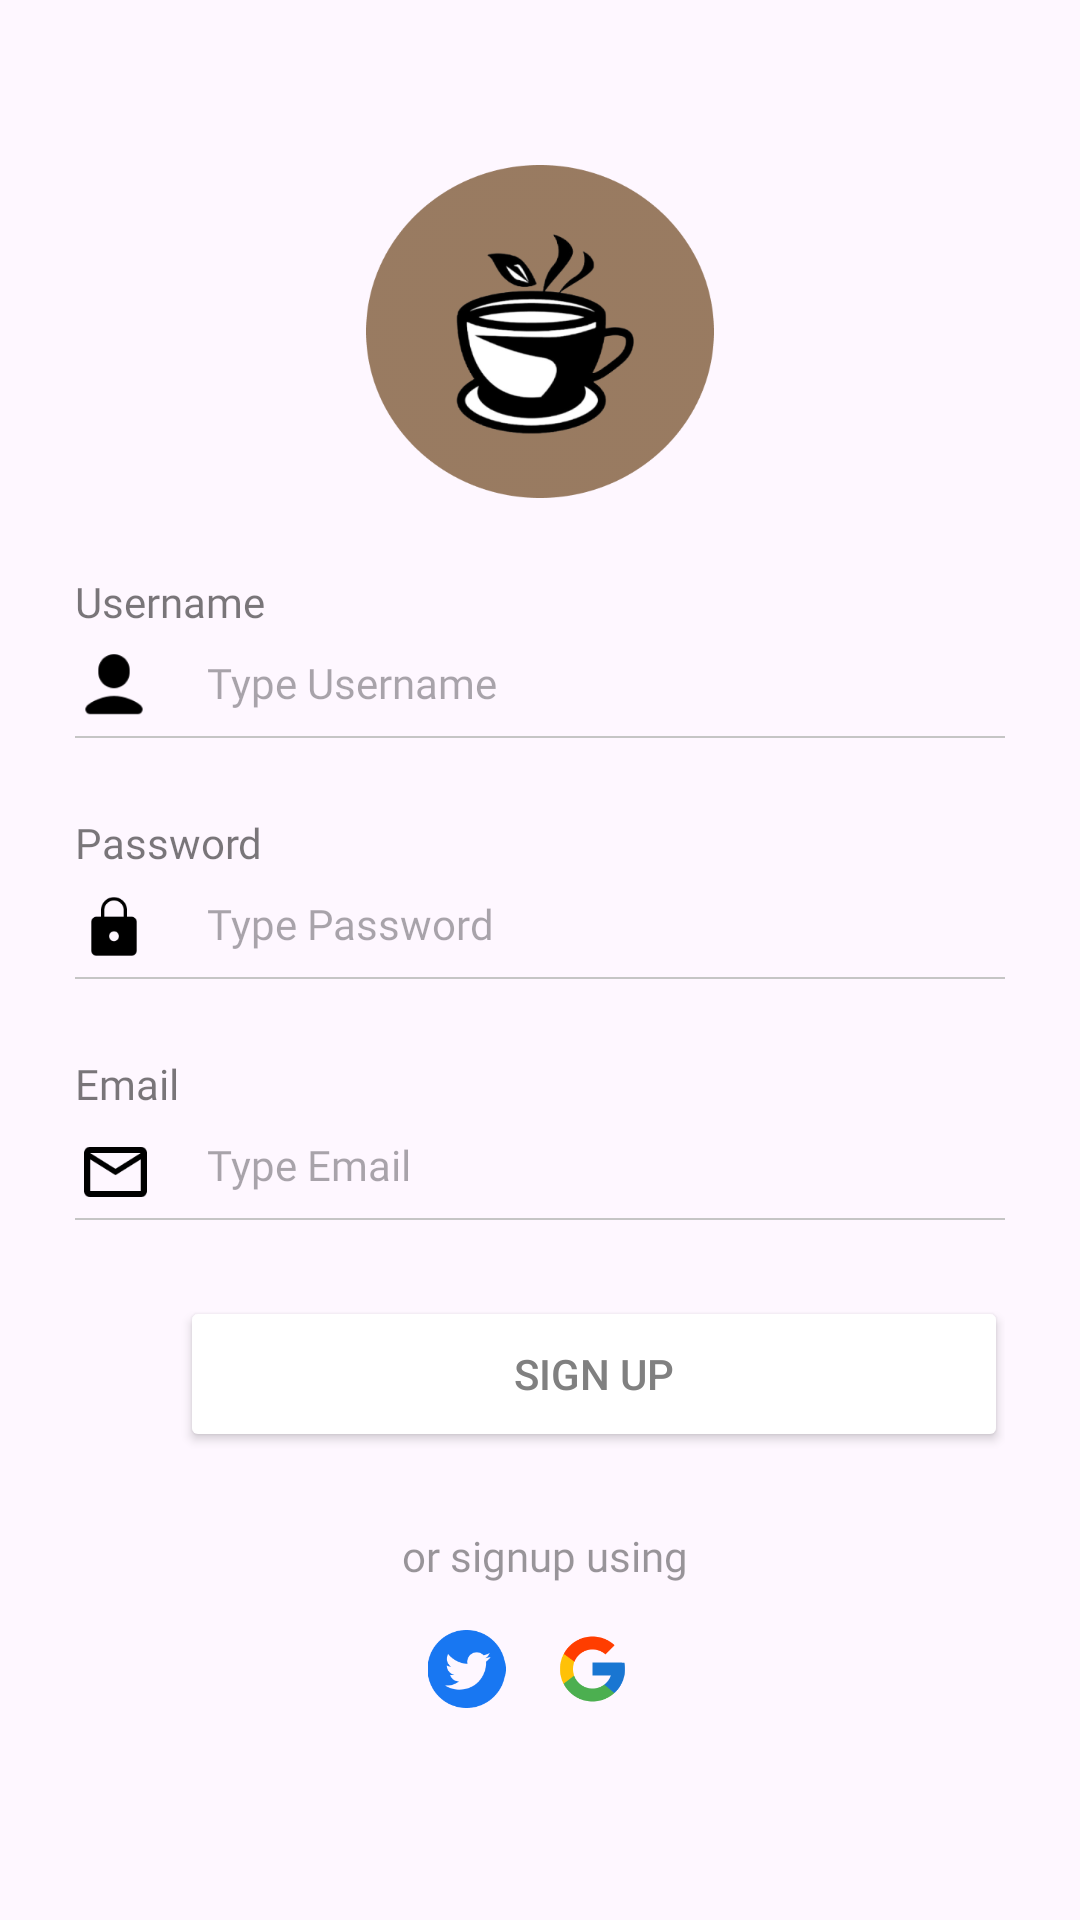

Icon bounding boxes for this 1080px×1920px phone screenshot, format (x1, y1, x2, y2):
lock: (91, 897, 137, 956)
